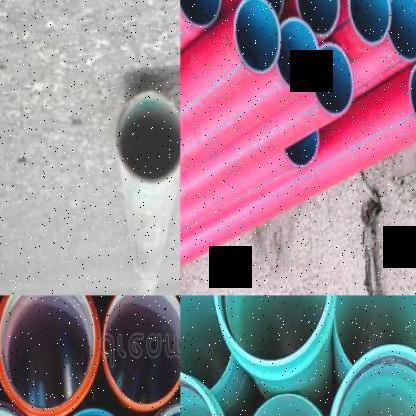pipe: (0, 295, 101, 416), (211, 296, 333, 368), (104, 296, 180, 408), (115, 88, 180, 186), (328, 344, 416, 416), (334, 296, 416, 366), (180, 296, 232, 390), (233, 0, 280, 75), (276, 16, 320, 92), (314, 42, 354, 116), (347, 0, 391, 45), (242, 394, 332, 416), (284, 119, 320, 170), (388, 0, 416, 61), (295, 0, 340, 37), (180, 1, 222, 26), (239, 0, 284, 18), (49, 407, 138, 416), (408, 58, 416, 130), (389, 0, 416, 6)
